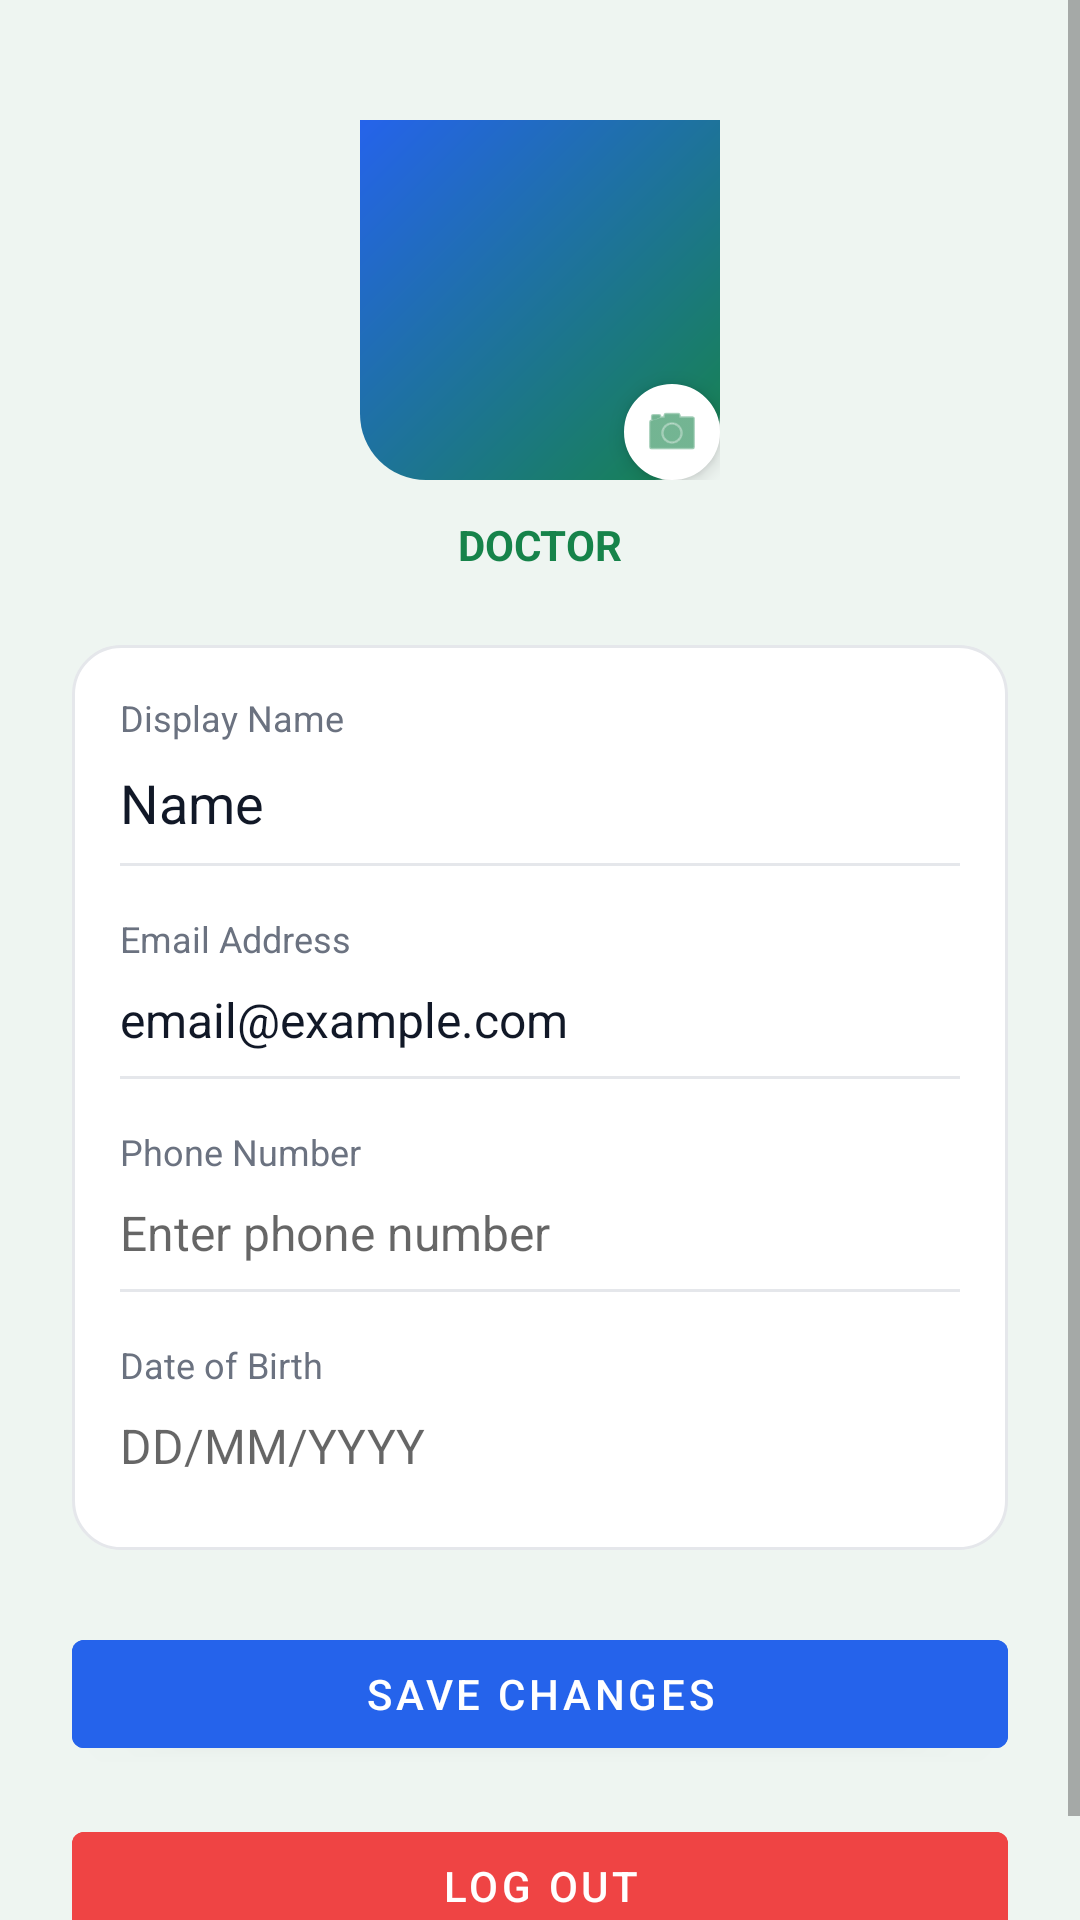

Icon click points for this 1080px×1920px phone screenshot, format point (x, y):
camera: point (672, 432)
